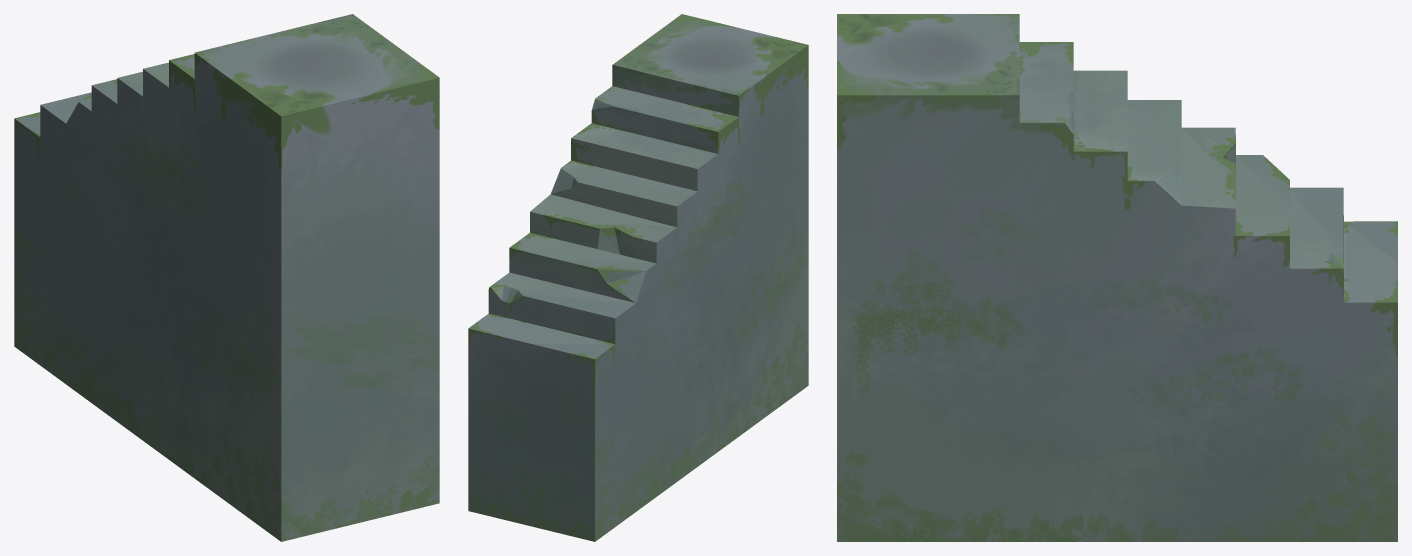
The model's file is Stairs_Test.fbx.
The picture shows the model from 3 angles, left to right: view 1: azimuth 30°, elevation 25°; view 2: azimuth 150°, elevation 25°; view 3: azimuth 270°, elevation 25°; orthographic projection. The views are drawn at different scales.
Parts seen in each view (by area): view 1: Stairs; view 2: Stairs; view 3: Stairs.
Part boxes in pixels (left/top/right/bottom): Stairs: left=14, top=14, right=439, bottom=541; Stairs: left=468, top=14, right=808, bottom=541; Stairs: left=837, top=14, right=1397, bottom=541.
Bounding box in the file's own units: 543 × 1394 × 1585.
1 material, 1 textured.
